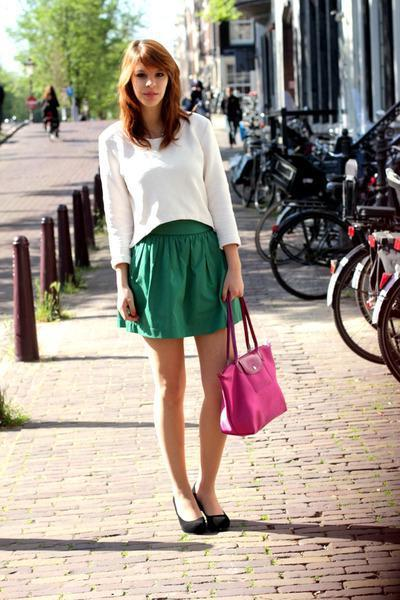skirt: (112, 217, 250, 343)
sweater: (96, 112, 244, 273)
